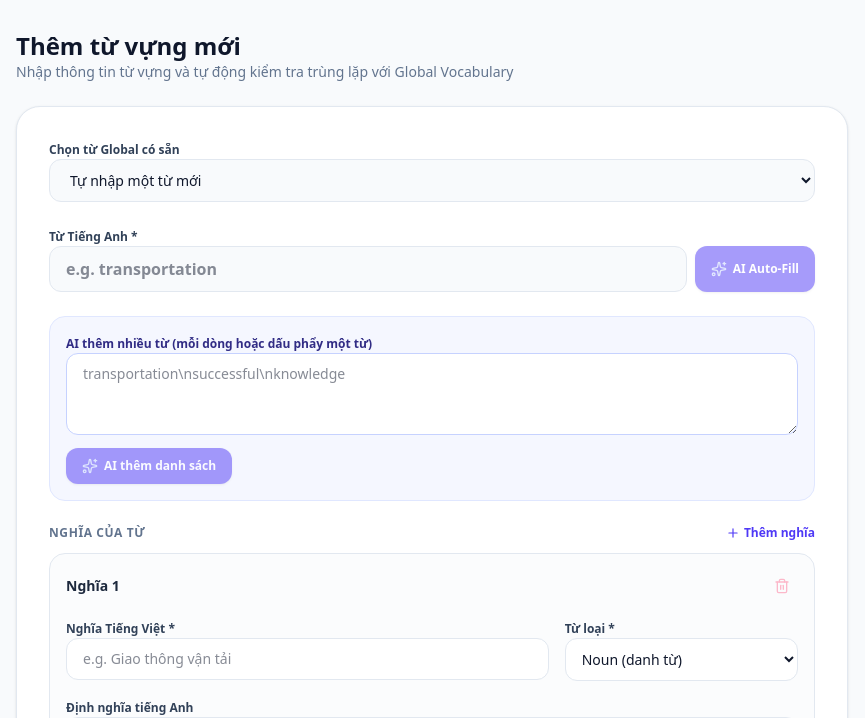
AddWordModal meaning editor › keeps one meaning section and removes only the selected extra meaning
Expected: the button named "Xóa nghĩa 1" is disabled, [766,570,798,602]
Click the button "Thêm nghĩa" at (770, 533), box [726,525,815,541]
(page scrolled)
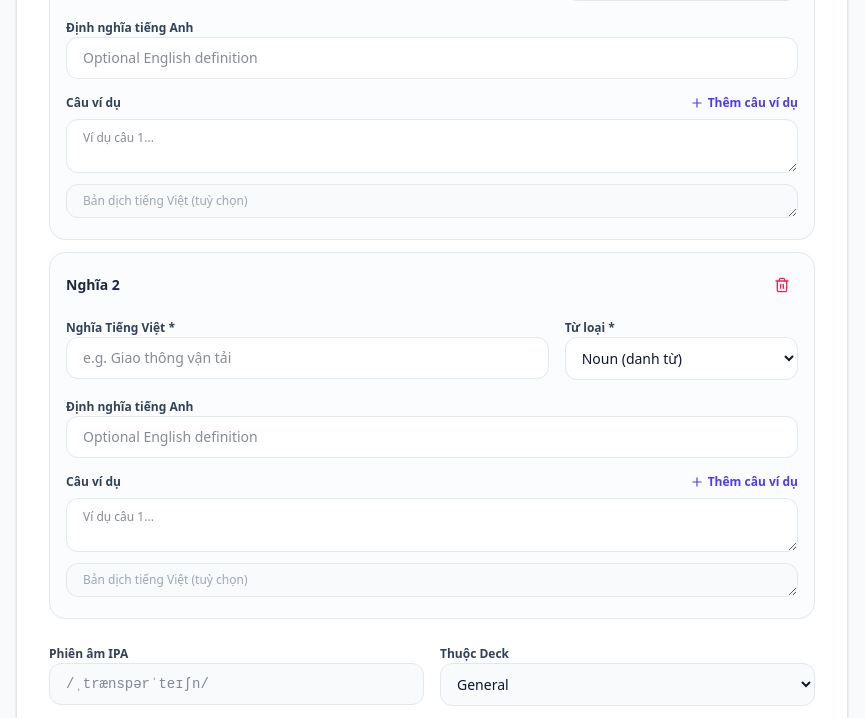
Type "nghĩa sẽ xóa" into the field named "Nghĩa tiếng Việt 2" at (307, 358), box [66,337,549,379]
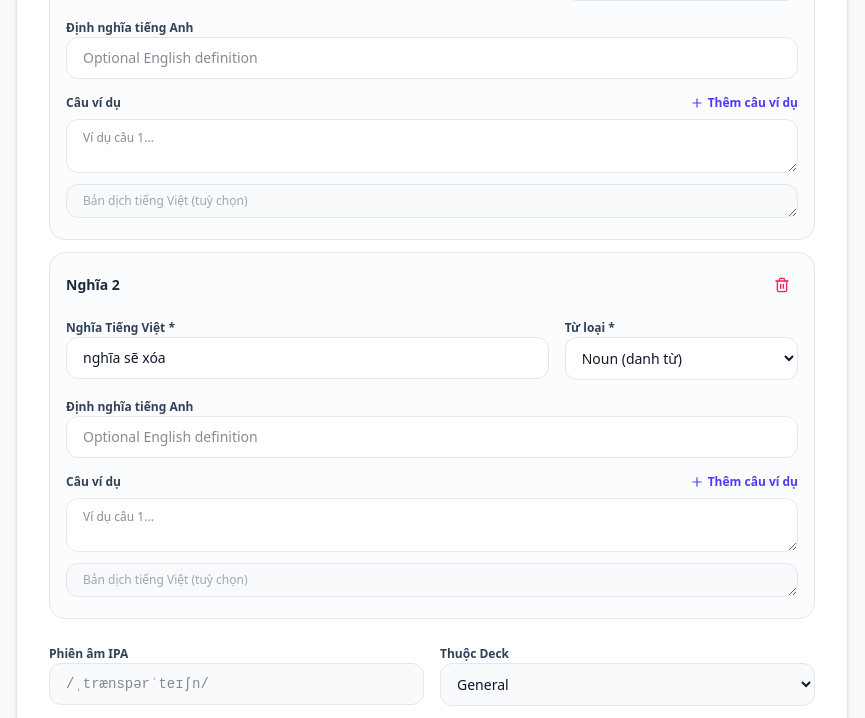
Click the button named "Xóa nghĩa 2" at (782, 285), box [766,269,798,301]
(page scrolled)
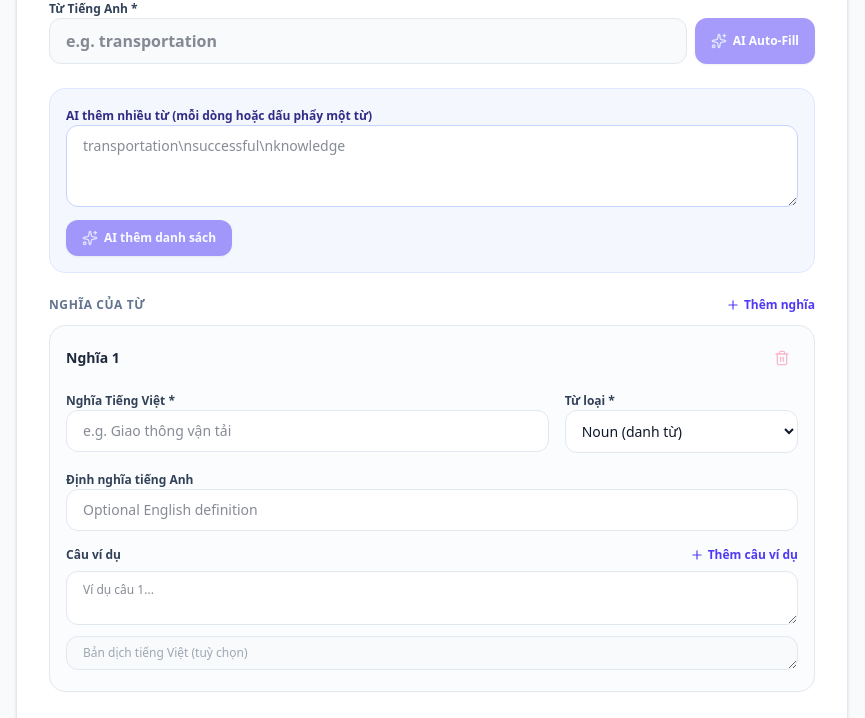
Expected: the field showing "nghĩa sẽ xóa" is not shown
Now the button named "Xóa nghĩa 1" is disabled, box [766,342,798,374]
